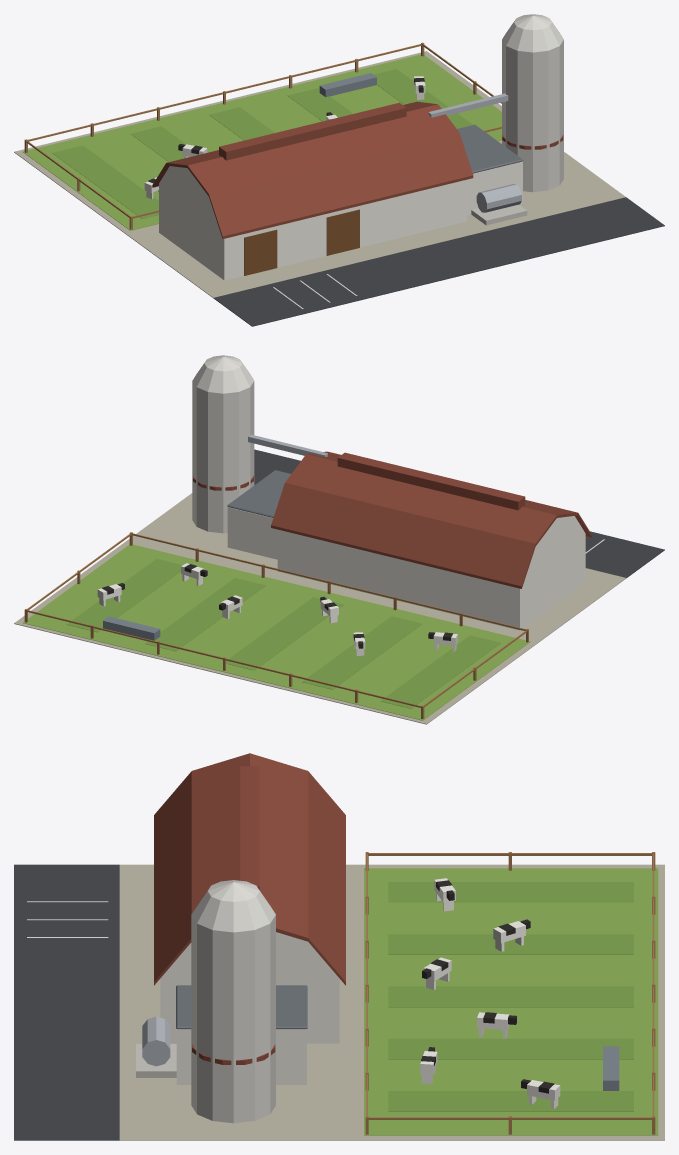
Rendered from dairyfarm.glb.
The picture shows the model from 3 angles, top to bottom: view 1: azimuth 30°, elevation 25°; view 2: azimuth 150°, elevation 25°; view 3: azimuth 270°, elevation 25°; orthographic projection. The views are drawn at different scales.
Visible parts, largest first — view 1: dairyfarm; view 2: dairyfarm; view 3: dairyfarm.
Part boxes in pixels (bbox=[...]): dairyfarm: bbox=[14, 14, 664, 326]; dairyfarm: bbox=[14, 355, 664, 724]; dairyfarm: bbox=[14, 753, 664, 1140].
Size of the model in its own units: 40 by 15.2 by 40.
